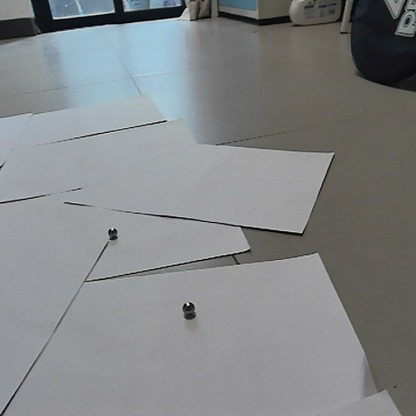ironball: (181, 299, 194, 316), (105, 223, 118, 239)
